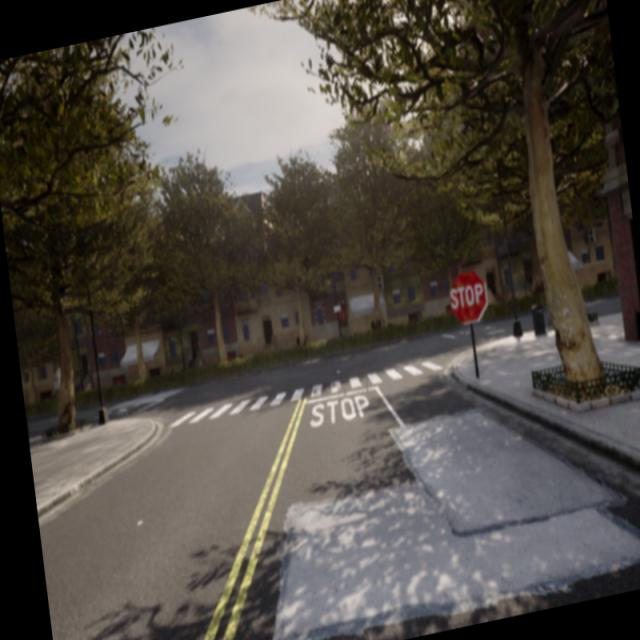stop sign: (446, 267, 490, 326)
